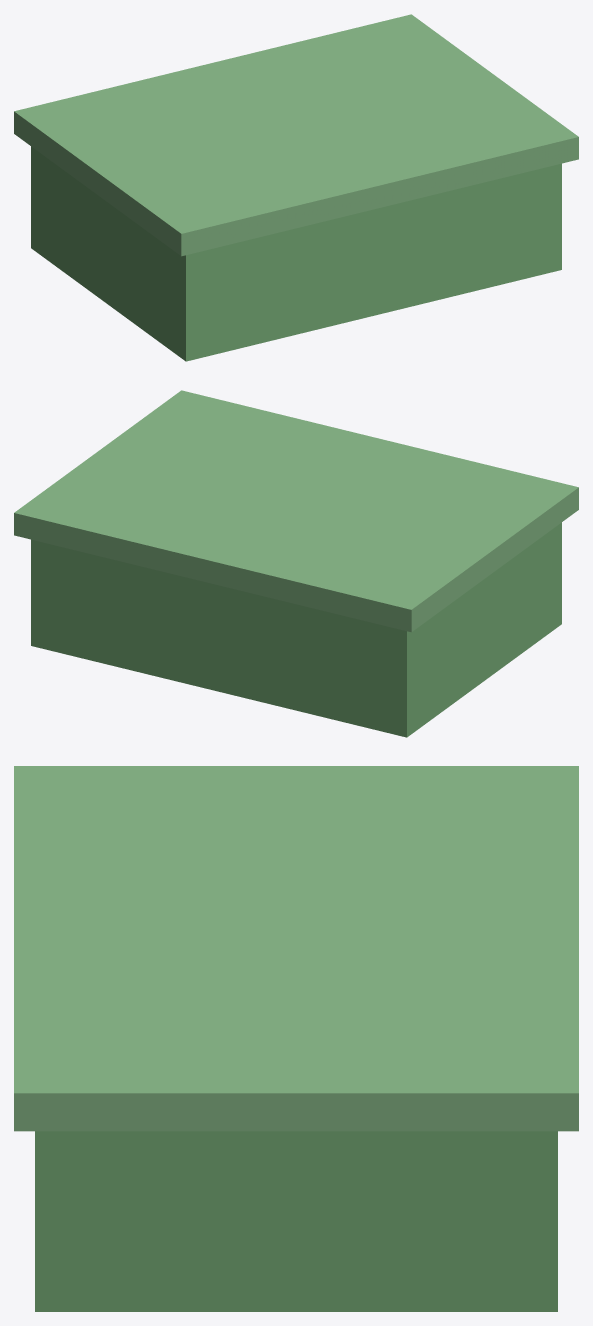
Rendered from valve_box.glb.
The picture shows the model from 3 angles, top to bottom: view 1: azimuth 30°, elevation 25°; view 2: azimuth 150°, elevation 25°; view 3: azimuth 270°, elevation 25°; orthographic projection. The views are drawn at different scales.
Parts seen in each view (by area): view 1: ValveBox; view 2: ValveBox; view 3: ValveBox.
Boxes of the visible parts, box(x1,y1,x2,y2) form: ValveBox: box(14, 14, 578, 361); ValveBox: box(14, 390, 578, 737); ValveBox: box(14, 766, 578, 1311).
Bounding box in the file's own units: 0.37 × 0.12 × 0.27.
